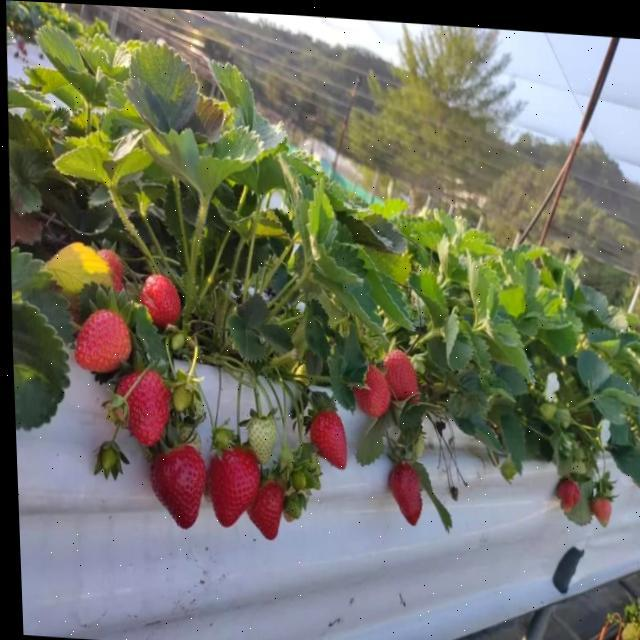ripe: (140, 439, 207, 532), (200, 438, 262, 530), (112, 368, 172, 448), (70, 304, 130, 376), (302, 400, 348, 470), (382, 455, 423, 525), (135, 270, 184, 328), (242, 474, 282, 544), (348, 352, 390, 418), (377, 344, 422, 401), (96, 248, 127, 292), (550, 468, 579, 510)
unripe: (240, 411, 278, 465), (167, 380, 193, 417), (588, 488, 612, 525), (492, 452, 516, 478), (279, 490, 299, 520), (286, 467, 308, 492)
